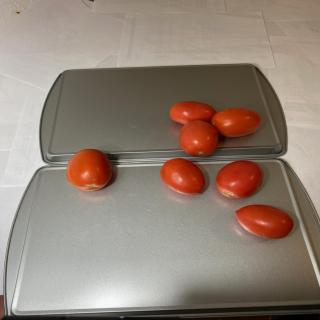Tomato: (66, 148, 113, 192), (235, 204, 294, 239), (216, 160, 264, 199), (160, 158, 205, 195), (211, 108, 262, 138), (178, 120, 218, 157), (170, 101, 217, 124)
